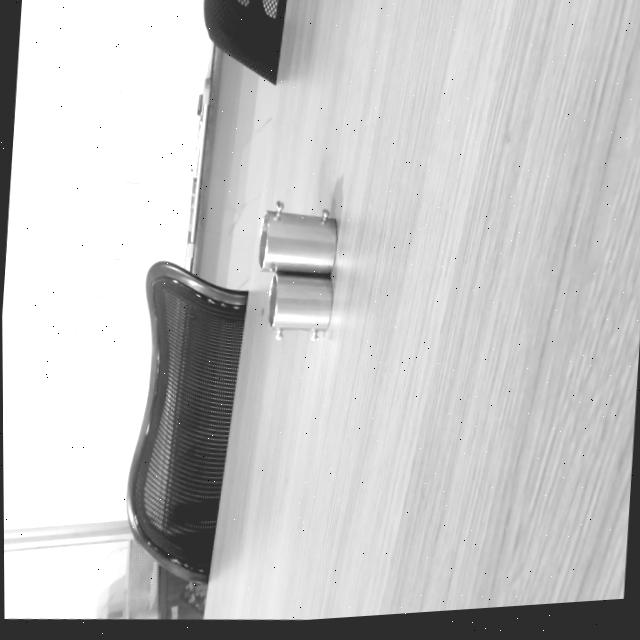Co_Lon: (257, 201, 339, 276)
Co_Nho: (266, 271, 333, 339)
